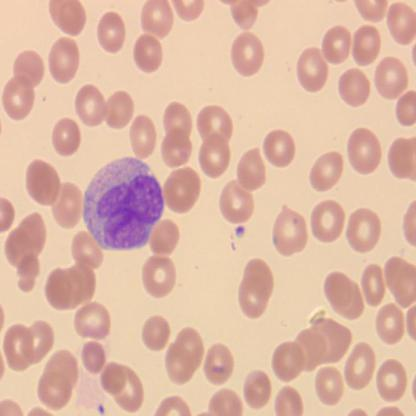Promyelocyte: (84, 155, 164, 252)
